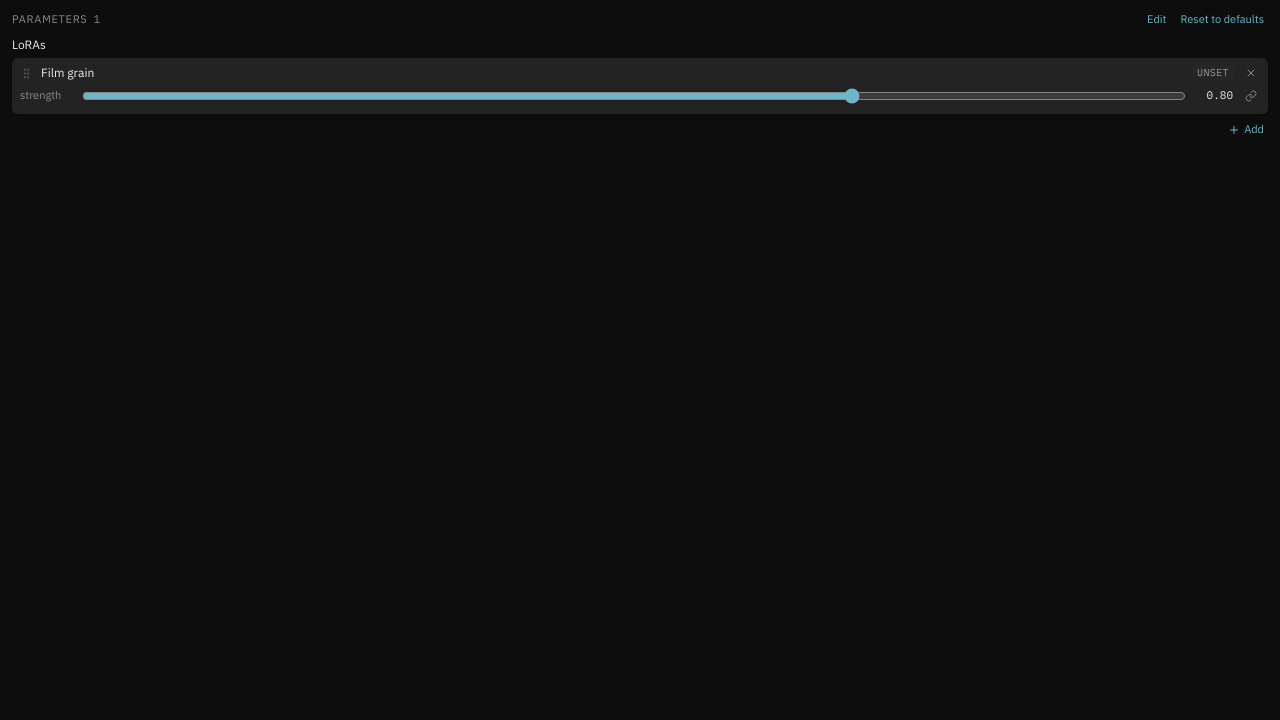
Test: the LoRA list › an added LoRA is marked rather than offered twice
The width and height of the screenshot is (1280, 720).
Click the button "Add".
click(1246, 130)  # box [1224,120,1268,140]
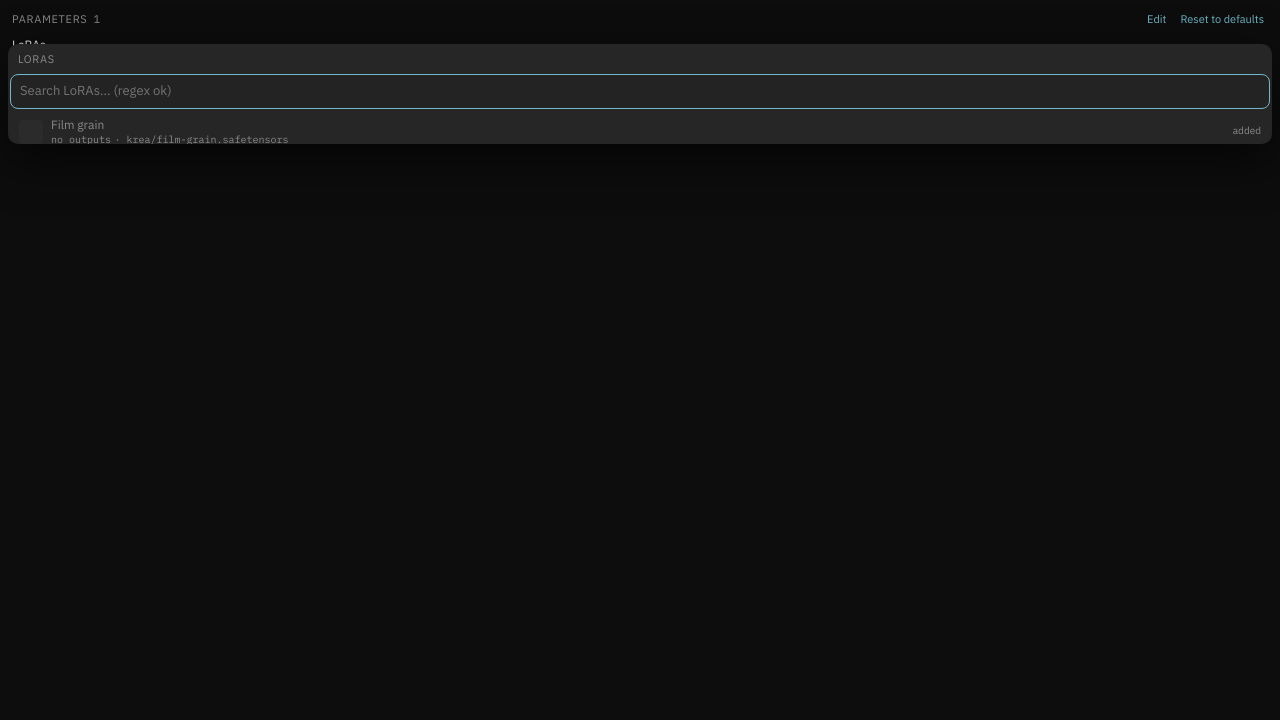
Check: the text "added" is shown, box [1233,124,1261,139]
